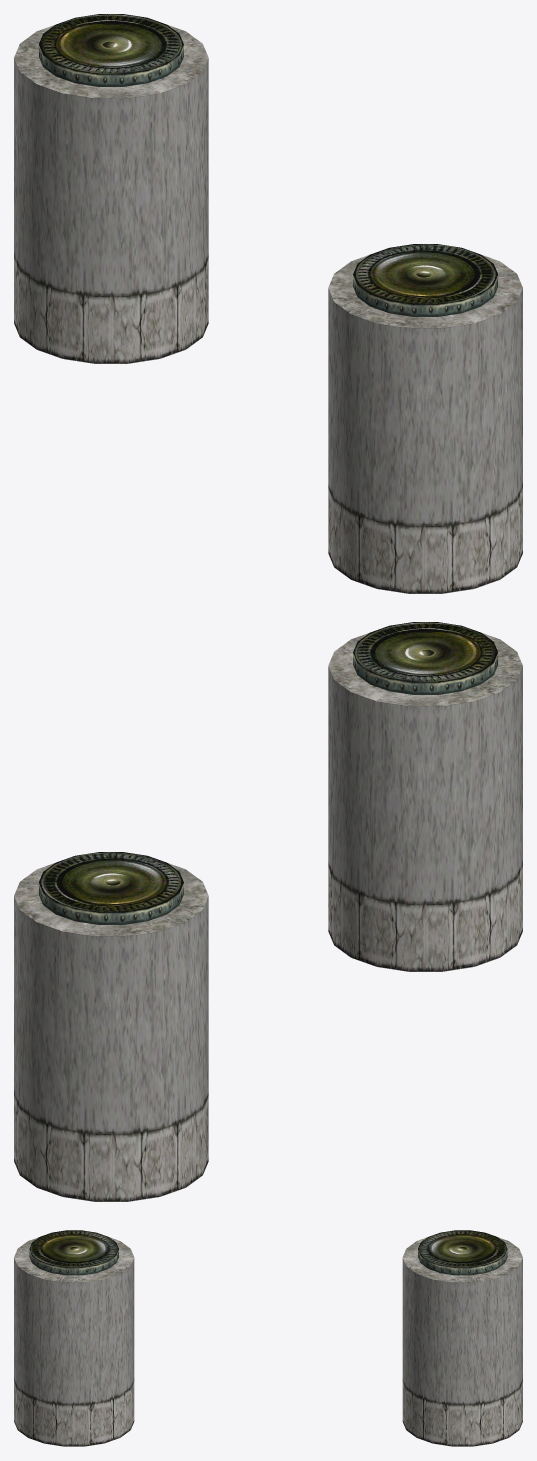
Rendered from DWARF_PALACE_BASE_PEDITALS.fbx.
3 views of the same model, one above another, from view 1: azimuth 30°, elevation 25°; view 2: azimuth 150°, elevation 25°; view 3: azimuth 270°, elevation 25° (orthographic). The views are drawn at different scales.
Parts seen in each view (by area): view 1: DWARF_PALACE_BASE_PEDITALS; view 2: DWARF_PALACE_BASE_PEDITALS; view 3: DWARF_PALACE_BASE_PEDITALS.
Part boxes in pixels (x1,y1,x2,y2): DWARF_PALACE_BASE_PEDITALS: [14, 14, 522, 593]; DWARF_PALACE_BASE_PEDITALS: [14, 622, 522, 1201]; DWARF_PALACE_BASE_PEDITALS: [14, 1230, 522, 1446].
Size of the model in its own units: 33877 by 54384 by 145421.
Materials: 5 (5 with a texture image).
